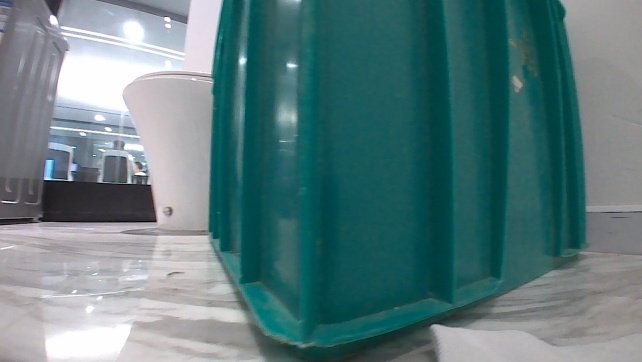socks: (425, 321, 641, 361)
toilet: (118, 68, 212, 231)
